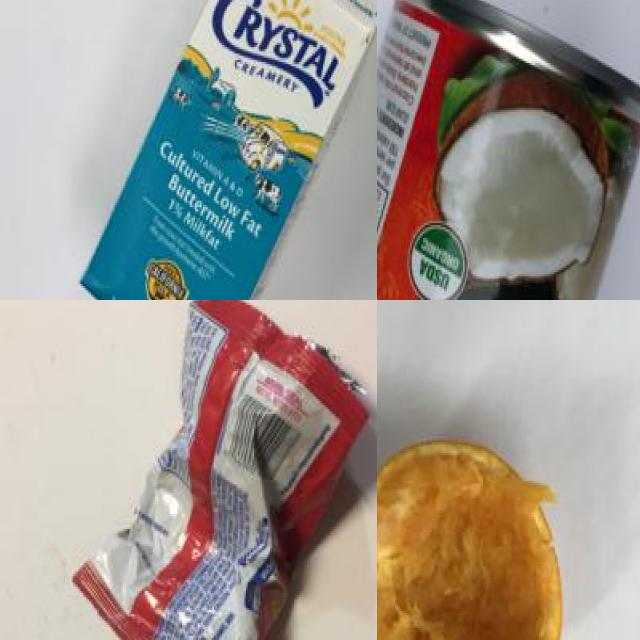compost: (377, 422, 615, 640)
paper: (80, 0, 377, 300)
plastic: (377, 0, 640, 300)
trash: (63, 300, 377, 640)
